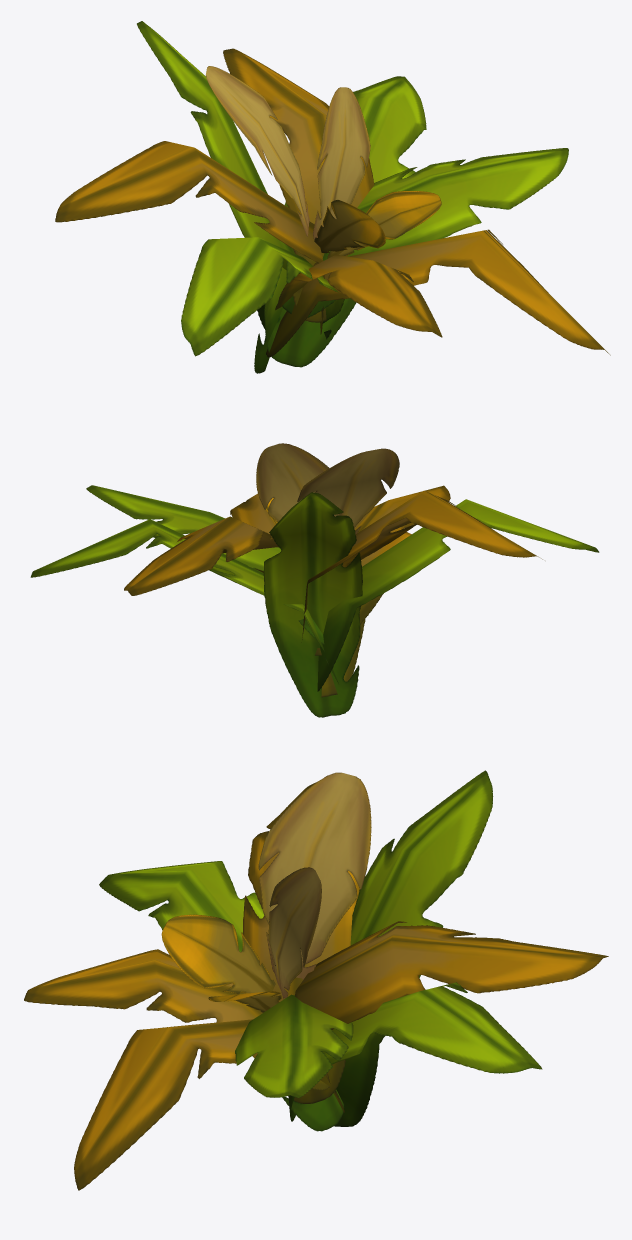
File: 2_Arbusto_Con_Flor.fbx
3 renders of one model, top to bottom at view 1: azimuth 30°, elevation 25°; view 2: azimuth 150°, elevation 25°; view 3: azimuth 270°, elevation 25°, orthographic. The views are drawn at different scales.
Parts seen in each view (by area): view 1: 1_Arbusto.002; view 2: 1_Arbusto.002; view 3: 1_Arbusto.002.
Part boxes in pixels (x1,y1,x2,y2): 1_Arbusto.002: (55,21,610,373); 1_Arbusto.002: (30,443,599,717); 1_Arbusto.002: (24,770,608,1190).
Bounding box in the file's own units: 131 × 77.51 × 124.
